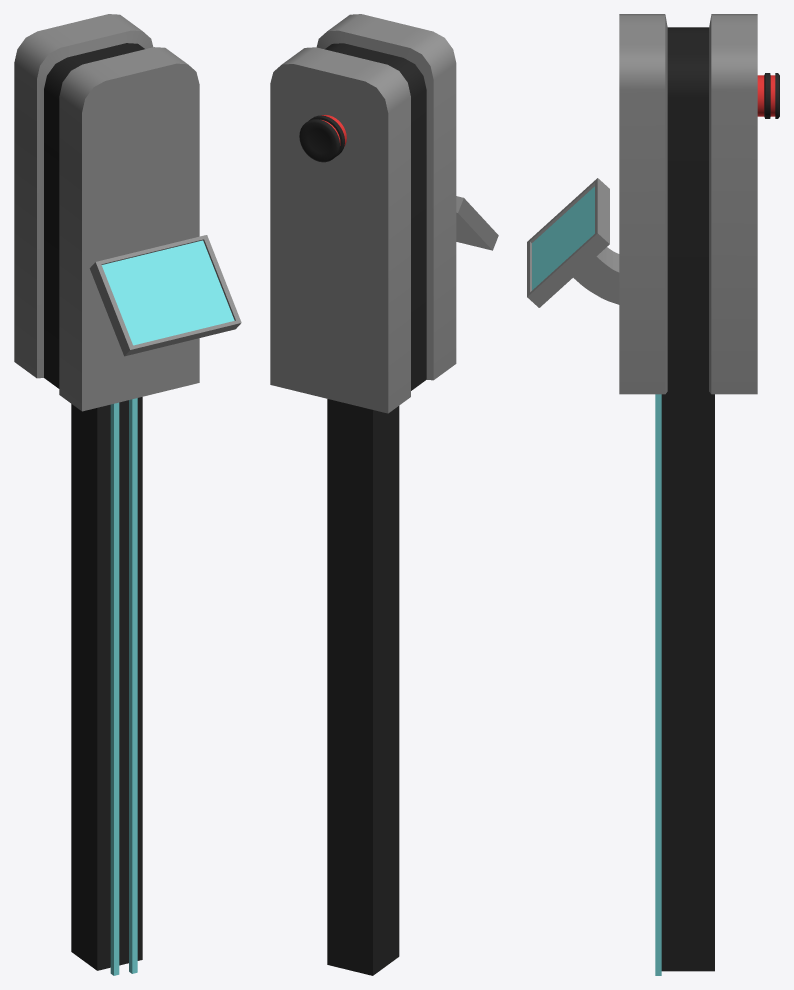
File: Sensor.fbx
3 views of the same model, side by side, from view 1: azimuth 30°, elevation 25°; view 2: azimuth 150°, elevation 25°; view 3: azimuth 270°, elevation 25° (orthographic).
Parts seen in each view (by area): view 1: Cube.001; view 2: Cube.001; view 3: Cube.001.
Part boxes in pixels (left/top/right/bottom): Cube.001: left=14, top=14, right=241, bottom=975; Cube.001: left=270, top=14, right=498, bottom=975; Cube.001: left=527, top=14, right=779, bottom=975.
Size of the model in its own units: 104 by 774 by 190.
